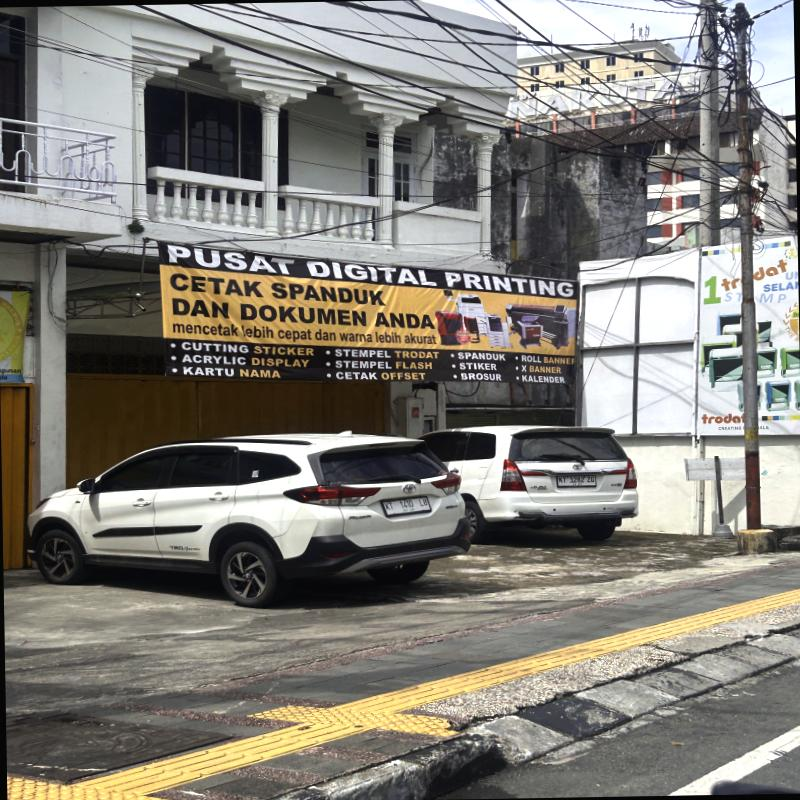license plate on a car: (381, 495, 431, 515), (556, 475, 597, 487)
